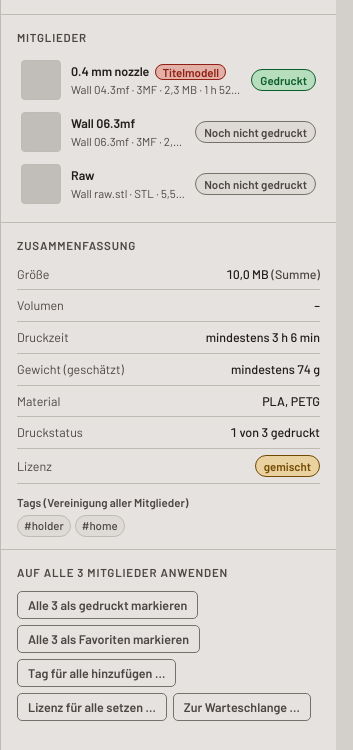
Test: BundlePanel actions › marks the members that are not printed yet, announces it, and turns the button around
(page scrolled)
Click the button "Alle 3 als gedruckt markieren" at [108, 605], box [17,591,198,619]
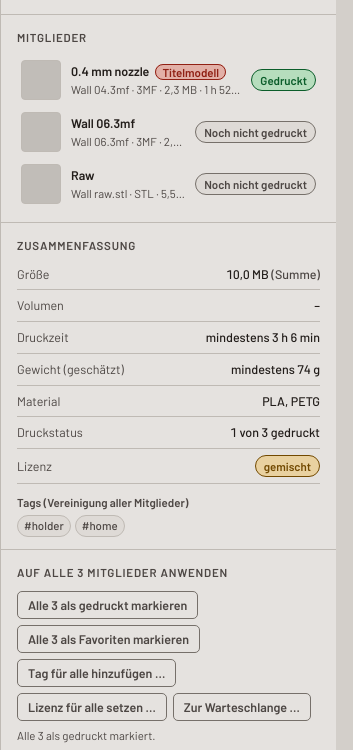
expect the message reads "Alle 3 als gedruckt markiert.": met, box [17,728,156,742]
